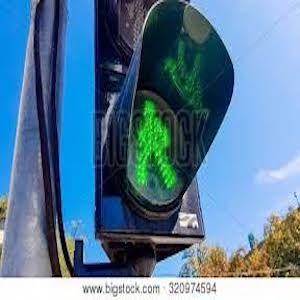green: (132, 103, 184, 196)
